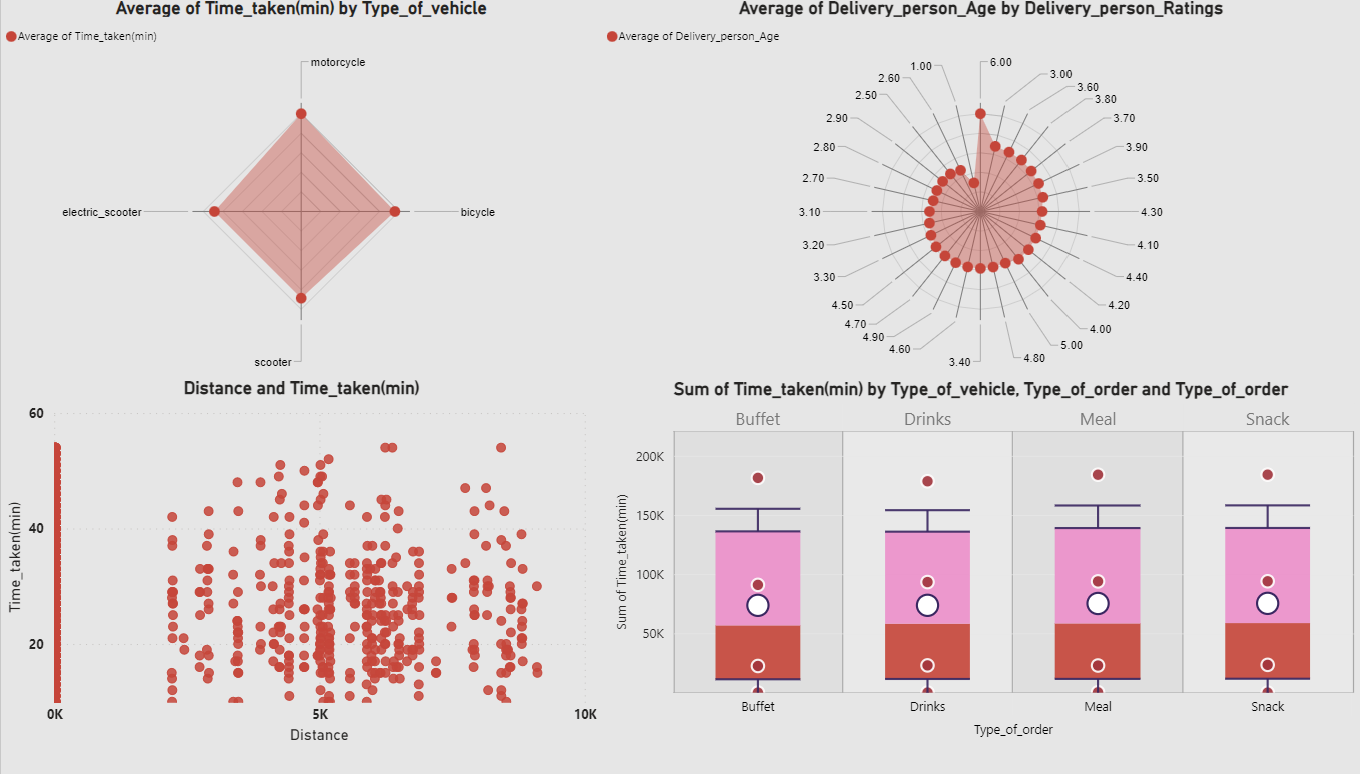

The page's visual inventory and layout, read from the dashboard file:
{"tool":"powerbi","page":{"name":"Power BI 2","canvas":[1280,720],"ordinal":1},"visuals":[{"type":"RadarChart1446119667547","fields":{"Category":["new_data.Type_of_vehicle"],"Y":["Avg(new_data.Time_taken(min))"]},"box":[0,0,566.2,360],"z":0},{"type":"RadarChart1446119667547","fields":{"Y":["Avg(new_data.Delivery_person_Age)"],"Category":["new_data.Delivery_person_Ratings"]},"box":[566.2,0,713.8,360],"z":1},{"type":"scatterChart","fields":{"X":["new_data.Distance"],"Y":["new_data.Time_taken(min)"]},"box":[0,358.8,566.2,350],"z":2},{"type":"BoxandWhiskerByMAQ1823AD39DT234AB532063E128AX","fields":{"category":["new_data.Type_of_vehicle"],"categoryGroup":["new_data.Type_of_order"],"xCategoryParent":["new_data.Type_of_order"],"measure":["Sum(new_data.Time_taken(min))"]},"box":[566.2,360,713.8,348.8],"z":3}]}

Visuals, with their boxes in screenshot pixels (x1, y1, x2, y2), scaled from the page's 1280x720 canvas onto the 1360x774 screenshot:
RadarChart1446119667547 - new_data.Type_of_vehicle x Avg(new_data.Time_taken(min)): [x1=0, y1=0, x2=602, y2=387]
RadarChart1446119667547 - Avg(new_data.Delivery_person_Age) x new_data.Delivery_person_Ratings: [x1=602, y1=0, x2=1359, y2=387]
scatterChart - new_data.Distance x new_data.Time_taken(min): [x1=0, y1=386, x2=602, y2=762]
BoxandWhiskerByMAQ1823AD39DT234AB532063E128AX - new_data.Type_of_vehicle x new_data.Type_of_order: [x1=602, y1=387, x2=1359, y2=762]
